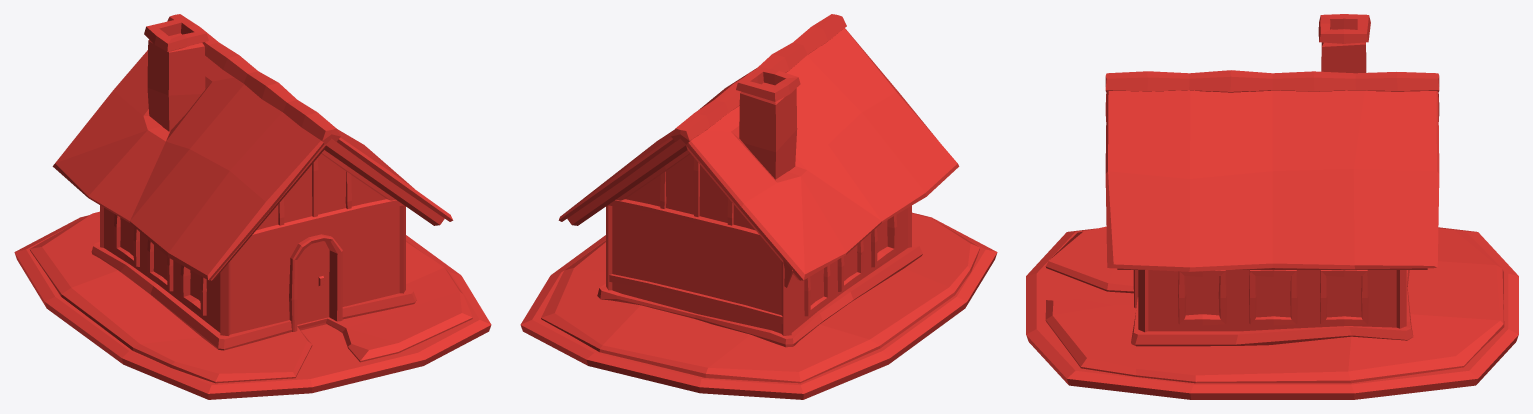
Rendered from SM_Ginger_House.fbx.
The picture shows the model from 3 angles, left to right: view 1: azimuth 30°, elevation 25°; view 2: azimuth 150°, elevation 25°; view 3: azimuth 270°, elevation 25°; orthographic projection. The views are drawn at different scales.
Visible parts, largest first — view 1: ginger-house; view 2: ginger-house; view 3: ginger-house.
Part boxes in pixels (x1,y1,x2,y2): ginger-house: (14, 14, 491, 399); ginger-house: (520, 14, 997, 399); ginger-house: (1026, 14, 1518, 399).
Bounding box in the file's own units: 0.2657 × 0.1883 × 0.3146.
